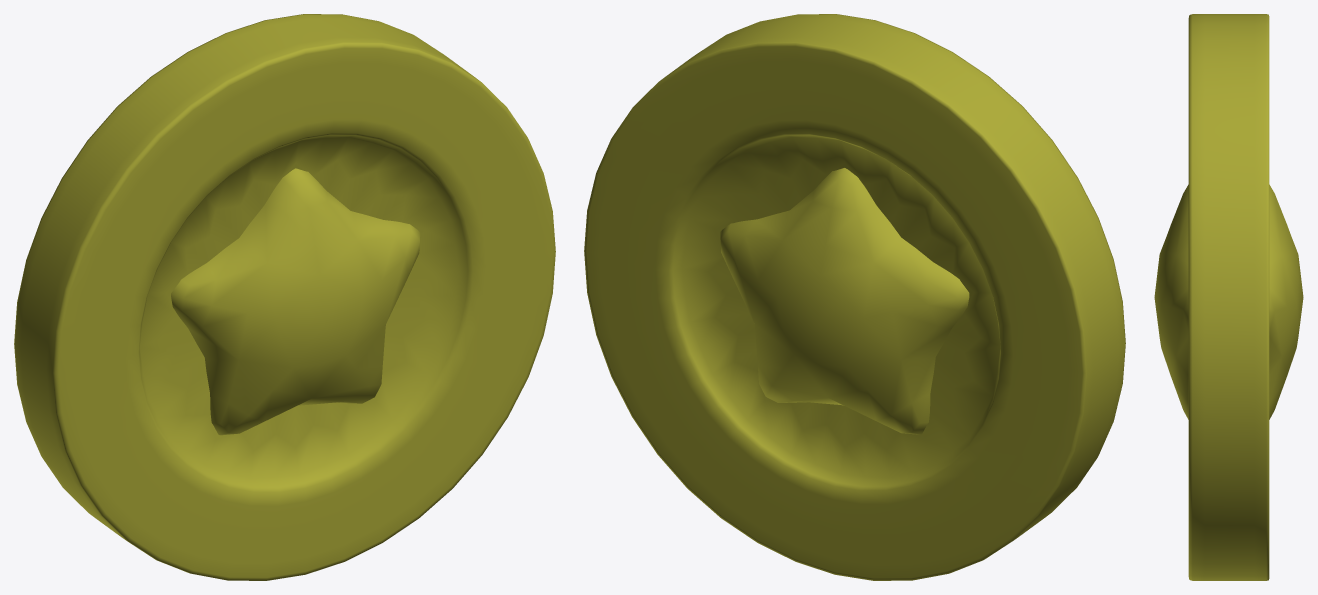
File: moneta.fbx
The picture shows the model from 3 angles, left to right: view 1: azimuth 30°, elevation 25°; view 2: azimuth 150°, elevation 25°; view 3: azimuth 270°, elevation 25°; orthographic projection. The views are drawn at different scales.
Parts seen in each view (by area): view 1: Coin; view 2: Coin; view 3: Coin.
Boxes of the visible parts, x1,y1,x2,y2 form: Coin: [14, 14, 555, 580]; Coin: [584, 14, 1125, 580]; Coin: [1154, 14, 1303, 580].
Size of the model in its own units: 76.95 by 77.01 by 20.22.
